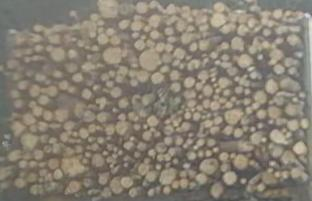medium: (62, 155, 86, 176), (139, 51, 161, 72), (98, 0, 118, 18), (21, 132, 39, 152), (104, 48, 123, 65), (269, 129, 289, 145), (279, 77, 300, 92), (64, 181, 81, 198), (158, 169, 176, 185), (225, 109, 243, 125), (234, 155, 249, 173), (200, 159, 217, 174), (49, 48, 66, 62), (210, 13, 227, 27), (143, 171, 157, 187), (110, 177, 123, 194), (6, 30, 18, 48), (237, 54, 252, 68), (210, 183, 223, 199), (293, 142, 307, 156), (265, 79, 278, 94), (222, 172, 237, 185), (54, 110, 70, 122), (6, 150, 22, 162), (11, 122, 25, 135), (90, 154, 104, 167), (270, 144, 284, 157), (282, 150, 296, 163), (117, 121, 129, 136), (28, 84, 41, 97), (231, 37, 244, 50), (254, 91, 267, 104), (251, 132, 263, 146), (267, 107, 282, 118), (287, 34, 301, 45), (285, 105, 299, 116), (219, 24, 234, 34), (188, 59, 200, 71), (24, 113, 37, 124), (147, 115, 160, 126), (149, 15, 160, 28), (270, 50, 283, 61), (263, 174, 276, 185), (182, 78, 196, 88), (122, 178, 134, 189), (84, 111, 95, 123), (81, 88, 92, 100), (96, 112, 108, 123), (162, 53, 174, 64), (181, 33, 193, 44), (237, 24, 248, 36), (8, 60, 21, 70), (14, 179, 27, 189), (109, 35, 122, 45), (213, 2, 226, 12), (136, 2, 147, 13), (60, 132, 71, 143), (47, 159, 58, 170), (138, 164, 149, 175), (118, 98, 129, 109), (137, 70, 148, 81), (220, 77, 231, 88), (46, 86, 58, 96), (64, 122, 76, 132), (111, 87, 123, 97), (155, 144, 167, 154), (176, 20, 186, 32), (67, 63, 78, 73), (17, 81, 28, 91), (33, 106, 43, 117), (39, 95, 50, 105), (39, 122, 49, 133), (163, 126, 174, 136), (118, 66, 129, 76), (152, 73, 163, 83), (134, 40, 145, 50), (198, 40, 209, 50), (49, 36, 61, 45), (143, 130, 152, 142), (170, 83, 182, 92), (273, 65, 285, 74), (72, 73, 82, 83), (42, 110, 52, 120), (174, 136, 184, 146), (289, 119, 299, 129), (12, 100, 23, 109), (79, 127, 88, 138), (141, 95, 150, 106), (169, 71, 180, 80), (301, 118, 309, 130), (58, 81, 68, 90), (9, 91, 19, 100), (19, 162, 29, 171), (54, 170, 63, 180), (179, 179, 188, 189), (197, 174, 206, 184), (73, 108, 82, 118), (106, 125, 115, 135), (127, 110, 136, 120), (124, 142, 134, 151), (136, 141, 146, 150), (98, 35, 107, 45), (174, 50, 184, 59), (166, 4, 176, 13), (131, 22, 142, 30), (119, 21, 130, 29), (227, 68, 238, 76), (200, 72, 209, 81), (257, 110, 266, 119), (163, 137, 173, 145), (184, 91, 195, 98), (211, 102, 220, 110), (204, 87, 212, 96), (150, 30, 159, 38), (76, 102, 86, 109), (273, 10, 281, 18), (52, 71, 60, 78), (88, 125, 96, 132), (263, 29, 271, 36), (235, 86, 242, 94), (248, 20, 256, 27), (30, 161, 36, 169), (172, 183, 179, 189)
small: (31, 53, 45, 61), (51, 145, 61, 156), (223, 126, 234, 136), (13, 71, 23, 81), (40, 134, 49, 145), (34, 150, 43, 161), (67, 50, 77, 59), (64, 147, 74, 156), (274, 97, 284, 106), (31, 185, 39, 196), (164, 28, 175, 36), (283, 58, 294, 66), (34, 44, 43, 53), (84, 179, 93, 188), (210, 127, 219, 136), (234, 129, 243, 138), (35, 73, 45, 81), (45, 173, 53, 183), (128, 188, 136, 198), (206, 139, 216, 147), (193, 112, 201, 122), (220, 164, 230, 172), (242, 144, 252, 152), (42, 146, 51, 154), (103, 188, 111, 197), (111, 166, 120, 174), (182, 123, 190, 132), (214, 117, 223, 125), (199, 25, 208, 33), (25, 70, 35, 77), (15, 49, 23, 57), (106, 27, 114, 35), (39, 169, 47, 177), (187, 152, 195, 160), (165, 44, 173, 52), (156, 44, 164, 52), (23, 48, 32, 55), (64, 36, 71, 45), (29, 125, 38, 132), (30, 172, 37, 181), (163, 186, 170, 195), (156, 155, 165, 162), (160, 66, 169, 73), (292, 169, 299, 178), (219, 153, 228, 160), (221, 62, 231, 68), (277, 92, 292, 96), (16, 37, 24, 44), (53, 25, 61, 32), (28, 101, 36, 108), (66, 87, 74, 94), (23, 153, 31, 160), (98, 177, 105, 185), (148, 189, 155, 197), (188, 171, 196, 178), (74, 145, 81, 153), (91, 144, 98, 152), (204, 120, 212, 127), (210, 70, 217, 78), (189, 43, 197, 50), (49, 138, 58, 144), (244, 107, 253, 113), (45, 45, 52, 52), (198, 151, 205, 158), (169, 149, 176, 156), (188, 100, 195, 107), (107, 81, 114, 88), (130, 71, 137, 78), (195, 84, 202, 91), (258, 184, 265, 191), (196, 140, 204, 146), (168, 37, 176, 43), (252, 103, 260, 109), (50, 123, 59, 128), (23, 56, 30, 62), (45, 30, 51, 37), (84, 45, 91, 51), (69, 11, 76, 17), (2, 142, 9, 148), (5, 134, 11, 141), (39, 162, 45, 169), (180, 171, 187, 177), (205, 151, 212, 157), (172, 159, 179, 165), (164, 155, 171, 161), (106, 157, 113, 163), (148, 150, 155, 156), (203, 101, 209, 108), (100, 74, 107, 80), (116, 76, 123, 82), (249, 47, 256, 53), (290, 67, 297, 73), (243, 99, 250, 105), (281, 173, 288, 179), (40, 186, 45, 194), (139, 111, 147, 116), (262, 13, 270, 18), (292, 26, 300, 31), (190, 184, 196, 190), (108, 145, 114, 151), (119, 114, 125, 120), (154, 132, 160, 138), (145, 157, 151, 163), (184, 113, 190, 119), (109, 71, 115, 77), (222, 43, 228, 49), (263, 42, 269, 48), (226, 102, 232, 108), (182, 164, 189, 169), (134, 152, 141, 157), (133, 124, 140, 129), (131, 33, 138, 38), (147, 41, 154, 46), (145, 26, 152, 31), (222, 55, 229, 60), (0, 65, 4, 73), (92, 14, 97, 20), (92, 46, 98, 51), (156, 164, 161, 170), (165, 163, 171, 168), (89, 136, 94, 142), (186, 140, 192, 145), (198, 133, 204, 138), (214, 95, 219, 101), (186, 55, 192, 60), (93, 85, 99, 90), (131, 80, 136, 86), (131, 64, 137, 69), (175, 59, 180, 65), (202, 18, 207, 24), (211, 53, 217, 58), (258, 55, 263, 61), (245, 89, 250, 95), (261, 19, 267, 24), (276, 29, 282, 34), (219, 99, 225, 104), (223, 91, 229, 96), (301, 93, 307, 98), (250, 128, 256, 133), (276, 119, 281, 125), (230, 154, 235, 160), (274, 173, 280, 178), (72, 37, 77, 42), (91, 26, 96, 31), (214, 148, 219, 153), (112, 154, 117, 159), (86, 152, 91, 157), (197, 106, 202, 111), (205, 115, 210, 120), (98, 138, 103, 143), (189, 26, 194, 31), (268, 21, 273, 26), (231, 97, 236, 102), (258, 124, 263, 129), (269, 120, 274, 125), (283, 119, 288, 124), (282, 129, 287, 134), (240, 179, 245, 184), (267, 169, 272, 174), (248, 153, 253, 158), (87, 191, 93, 195), (123, 163, 129, 167), (177, 128, 183, 132), (294, 60, 298, 66), (250, 73, 256, 77), (285, 12, 291, 16), (270, 162, 274, 168), (249, 161, 255, 165), (5, 73, 12, 76), (78, 42, 82, 47), (91, 32, 95, 37), (98, 29, 102, 34), (99, 21, 103, 26), (87, 55, 92, 59), (13, 113, 17, 118), (109, 165, 114, 169), (118, 151, 123, 155), (83, 159, 88, 163), (124, 157, 129, 161), (72, 138, 77, 142), (78, 139, 82, 144), (73, 132, 78, 136), (97, 126, 101, 131), (107, 137, 112, 141), (134, 117, 138, 122), (176, 98, 180, 103), (179, 65, 184, 69), (141, 36, 146, 40), (150, 48, 155, 52), (81, 65, 86, 69), (188, 18, 193, 22), (216, 60, 220, 65), (277, 39, 282, 43), (297, 53, 302, 57), (245, 82, 249, 87), (240, 79, 245, 83), (293, 98, 297, 103), (35, 26, 39, 30), (39, 178, 43, 182), (130, 137, 134, 141), (151, 129, 155, 133), (165, 120, 169, 124), (181, 105, 185, 109), (201, 80, 205, 84), (197, 35, 201, 39), (203, 33, 207, 37), (270, 61, 274, 65), (244, 127, 248, 131), (287, 132, 291, 136), (103, 90, 108, 93), (120, 138, 123, 143), (115, 148, 118, 152), (87, 146, 91, 149), (189, 134, 192, 138), (143, 125, 147, 128), (201, 117, 205, 120), (97, 99, 100, 103), (175, 122, 178, 126), (213, 84, 216, 88), (98, 64, 101, 68), (92, 66, 96, 69), (247, 68, 250, 72), (235, 78, 239, 81), (255, 28, 259, 31), (237, 100, 240, 104), (262, 139, 266, 142), (262, 148, 266, 151), (113, 161, 116, 164), (104, 152, 107, 155), (195, 147, 198, 150), (184, 146, 187, 149), (115, 109, 118, 112), (186, 109, 189, 112), (192, 109, 195, 112), (208, 114, 211, 117), (215, 113, 218, 116), (199, 95, 202, 98), (179, 118, 182, 121), (216, 90, 219, 93), (212, 78, 215, 81), (86, 69, 89, 72), (203, 54, 206, 57), (204, 59, 207, 62), (269, 101, 272, 104)
